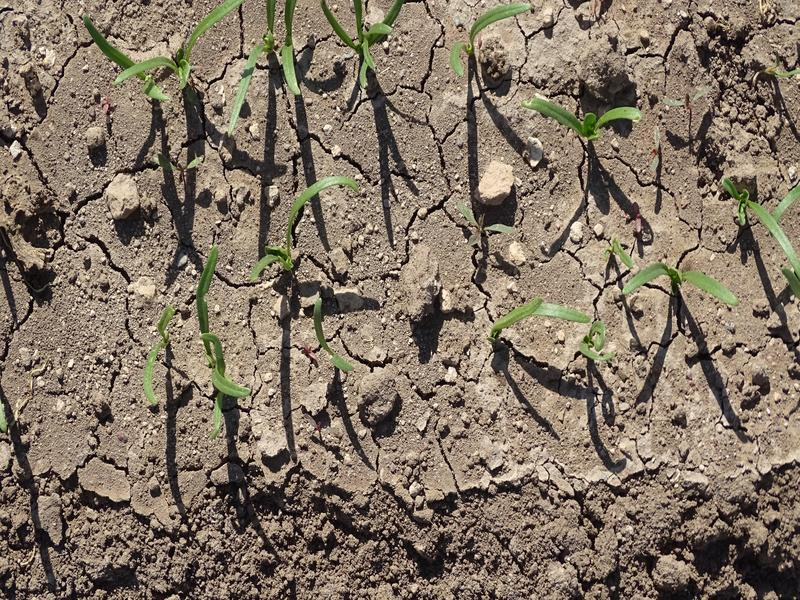Espinaca: (81, 3, 243, 102), (243, 174, 367, 278), (221, 1, 279, 135), (445, 3, 533, 80), (334, 1, 407, 87), (620, 256, 738, 307), (751, 183, 800, 287), (498, 285, 586, 342), (200, 334, 249, 432), (311, 290, 361, 375), (138, 304, 178, 409), (541, 102, 650, 137), (279, 1, 309, 104), (196, 248, 221, 328)
